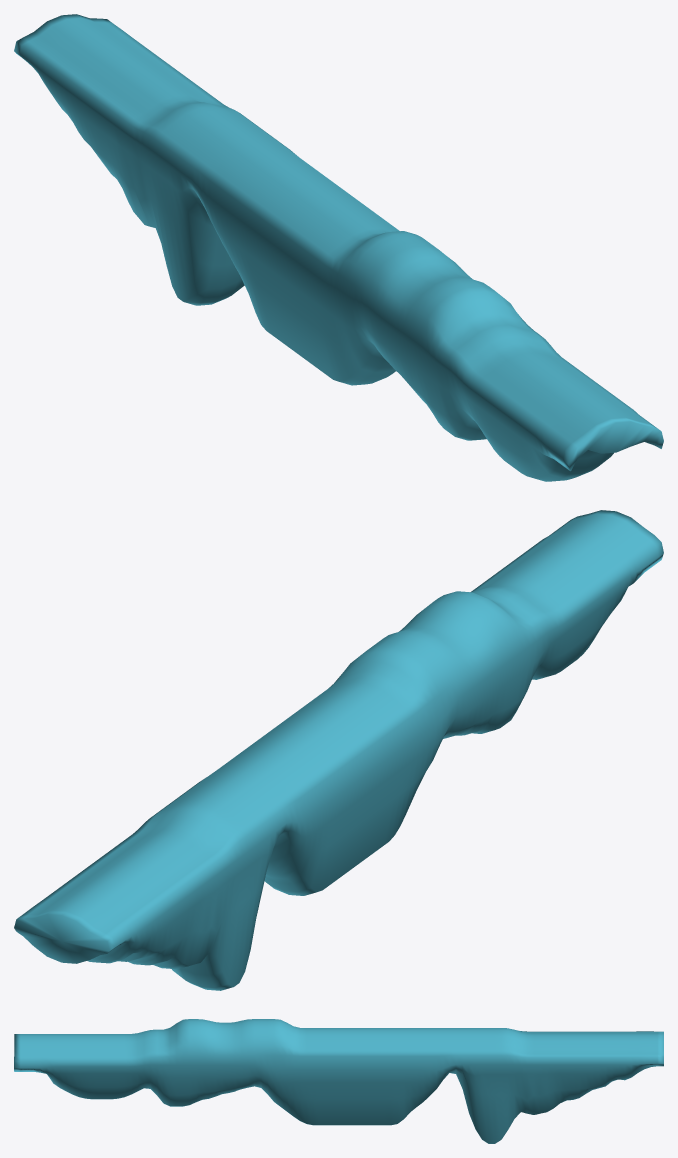
The model's file is seal_LP.fbx.
3 renders of one model, top to bottom at view 1: azimuth 30°, elevation 25°; view 2: azimuth 150°, elevation 25°; view 3: azimuth 270°, elevation 25°, orthographic. The views are drawn at different scales.
Visible parts, largest first — view 1: polySurface912; view 2: polySurface912; view 3: polySurface912.
Boxes of the visible parts, x1=… form: polySurface912: x1=14, y1=14, x2=663, y2=481; polySurface912: x1=14, y1=510, x2=663, y2=990; polySurface912: x1=14, y1=1019, x2=663, y2=1143.
Size of the model in its own units: 86.81 by 177 by 873.
